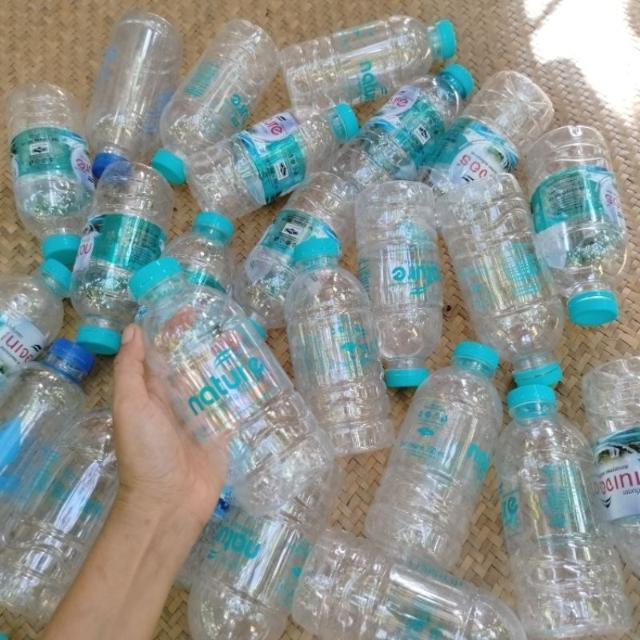PET Bottle: (111, 249, 346, 517), (0, 294, 124, 630), (418, 149, 570, 383), (368, 323, 504, 584), (485, 364, 613, 628), (264, 520, 508, 640), (511, 115, 640, 329), (270, 234, 386, 462), (220, 154, 359, 332), (166, 96, 375, 212), (150, 0, 278, 184), (351, 176, 454, 402), (0, 68, 104, 286), (63, 154, 179, 346), (332, 57, 478, 195), (155, 502, 301, 640), (74, 0, 182, 185), (277, 11, 459, 116)
